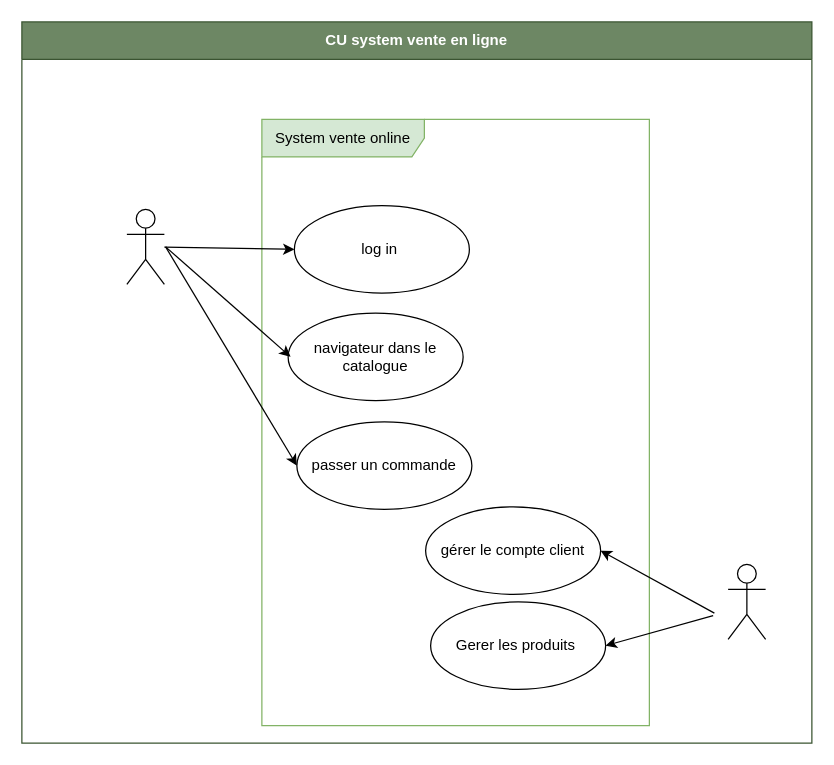
The diagram is 834 pixels wide and 765 high, and some of its shapes have lost their labels. The centre of each missing label's shape, as x and y in pixels:
"Administrateur" belongs at point 746,601.
"Client" belongs at point 145,246.
